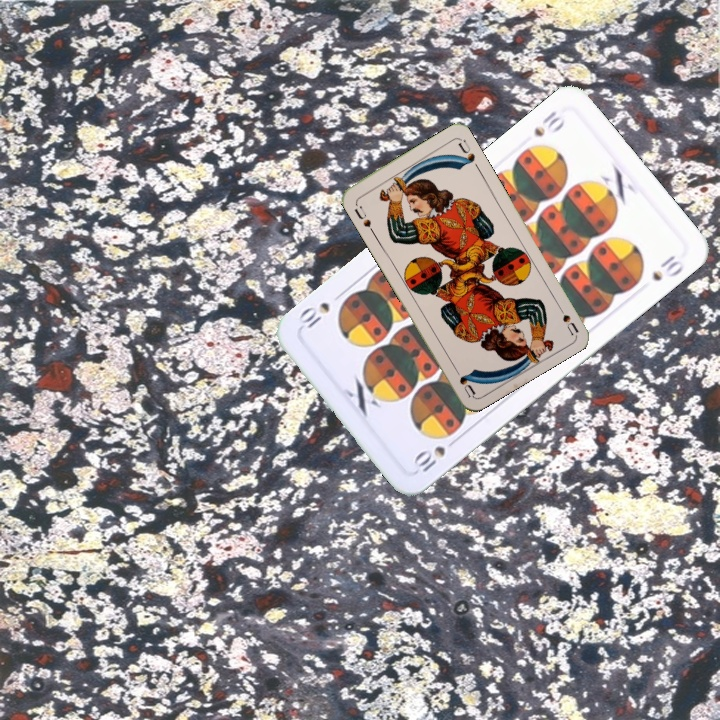S10: (409, 433, 462, 475), (529, 106, 568, 140)
SU: (552, 299, 581, 337), (350, 202, 377, 236)
